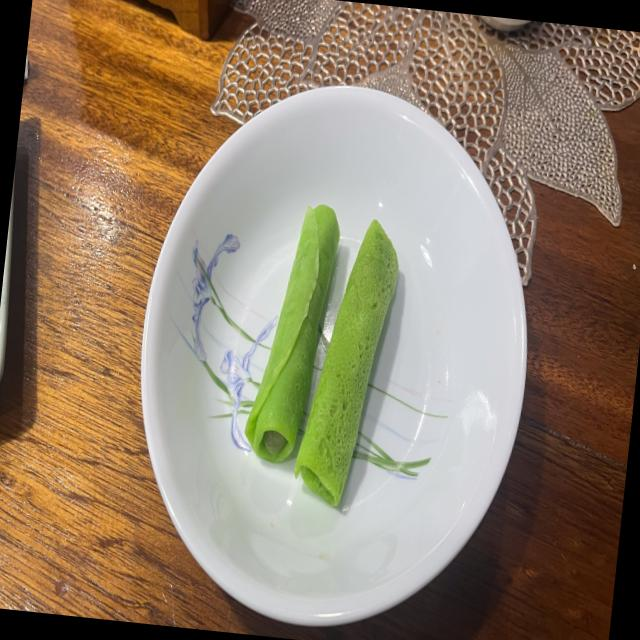Kuih-Ketayap: (294, 218, 398, 507), (245, 204, 339, 463), (245, 207, 319, 445)
